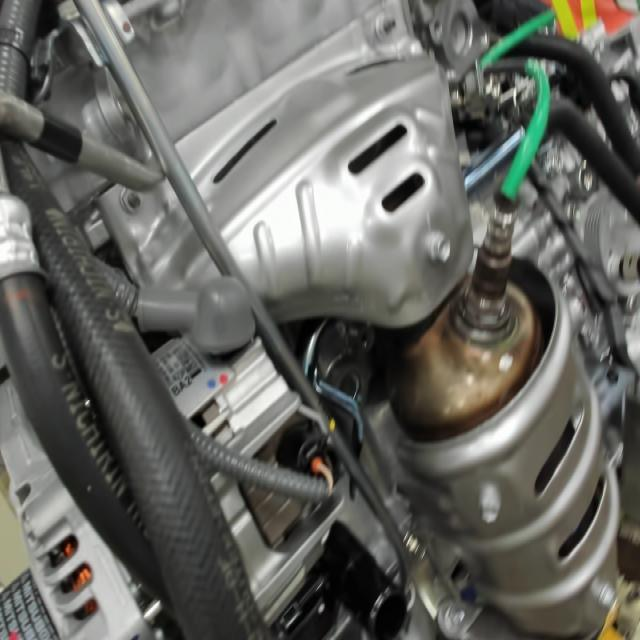Alternator-BA2: (166, 366, 198, 402)
Hose Discharge-HT: (30, 105, 87, 175)
